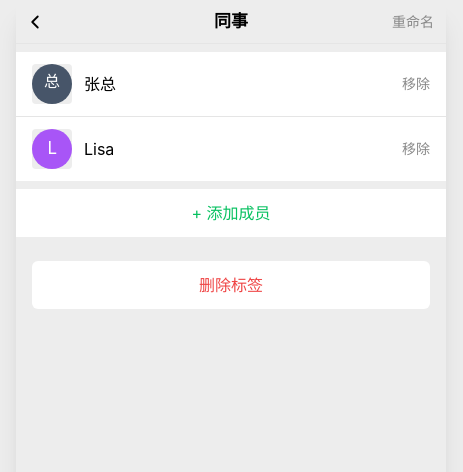
Test case: 标签管理页面 › 添加成员：候选列表中选择后成为成员
Click the button with test id "tag-add-member-button" at (231, 213), box [16,189,446,237]
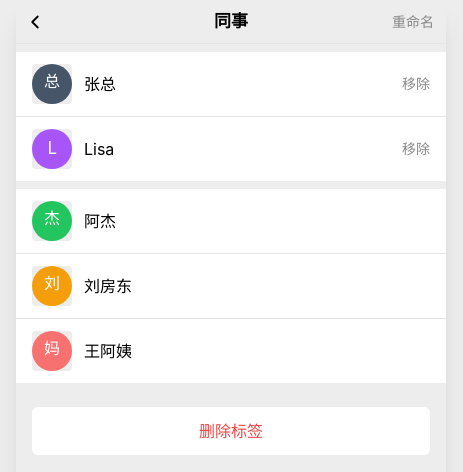
Check: the button with test id "tag-candidate-mom" is shown
Click the button with test id "tag-candidate-mom" at (52, 351), box [16,318,446,383]
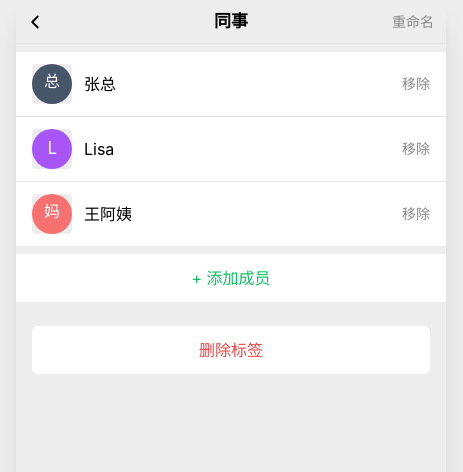
Check: the element with test id "tag-member-mom" is shown, box [16,181,446,246]
